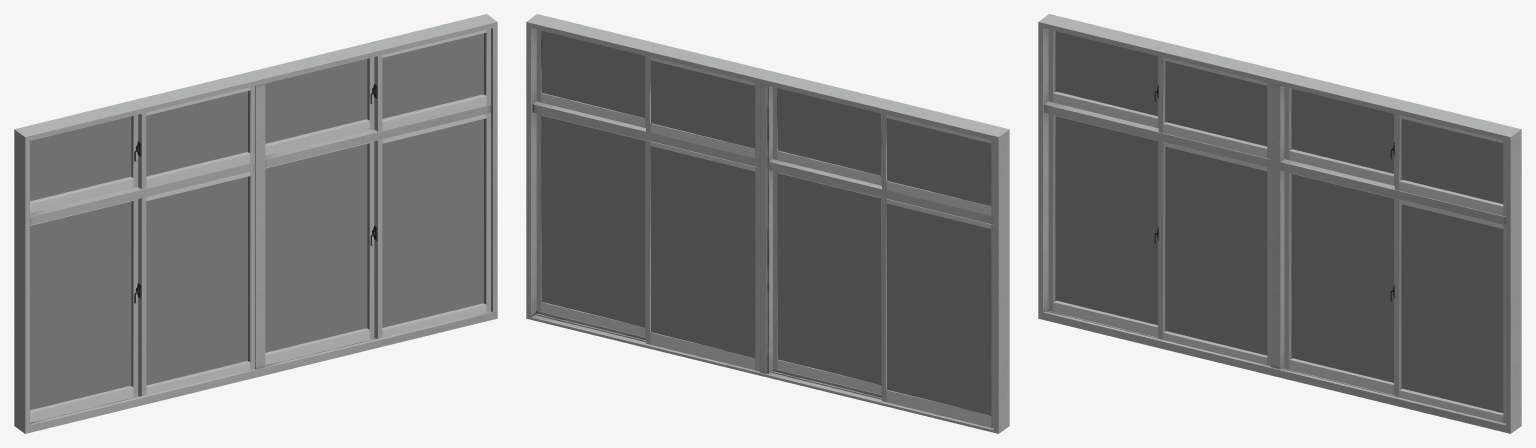
Rendered from Window_01.FBX.
The picture shows the model from 3 angles, left to right: view 1: azimuth 30°, elevation 25°; view 2: azimuth 150°, elevation 25°; view 3: azimuth 330°, elevation 25°; orthographic projection.
Visible parts, largest first — view 1: Window_01; view 2: Window_01; view 3: Window_01.
Part boxes in pixels (x1,y1,x2,y2): Window_01: (14,14,497,433); Window_01: (526,14,1009,433); Window_01: (1038,14,1521,433).
Size of the model in its own units: 300 by 180 by 12.
